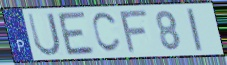8: (154, 10, 183, 52)
C: (90, 11, 122, 55)
E: (55, 10, 97, 57)
F: (118, 9, 150, 56)
I: (184, 7, 205, 53)
U: (25, 11, 63, 57)
